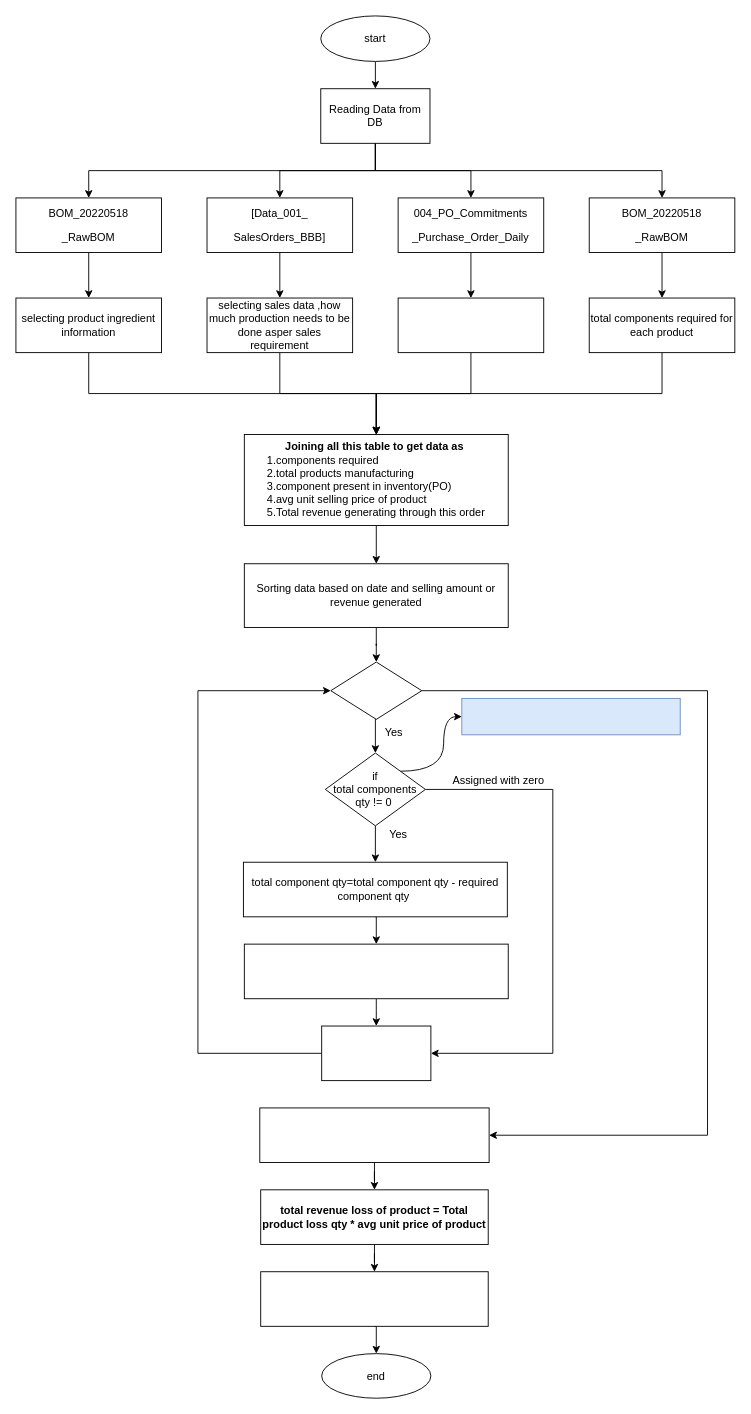
Some shapes in this 751 by 1414 pixel diagram are drawn without their labels. The shapes that lost their labels are listed below. From the top down, each one's centre as x and y in pixels, then its label:
point (470, 325): PO data , Total components in inventory
point (376, 690): iterating over sorted data
point (570, 716): If any component required for product is zero it will skip for that product
point (375, 971): allocating required component qty to product
point (376, 1053): Product assigned with component
point (374, 1135): total product loss qty = Total product qty manufactured - Total product order
point (374, 1298): overall revenue loss = sum(Total revenue loss of product)
